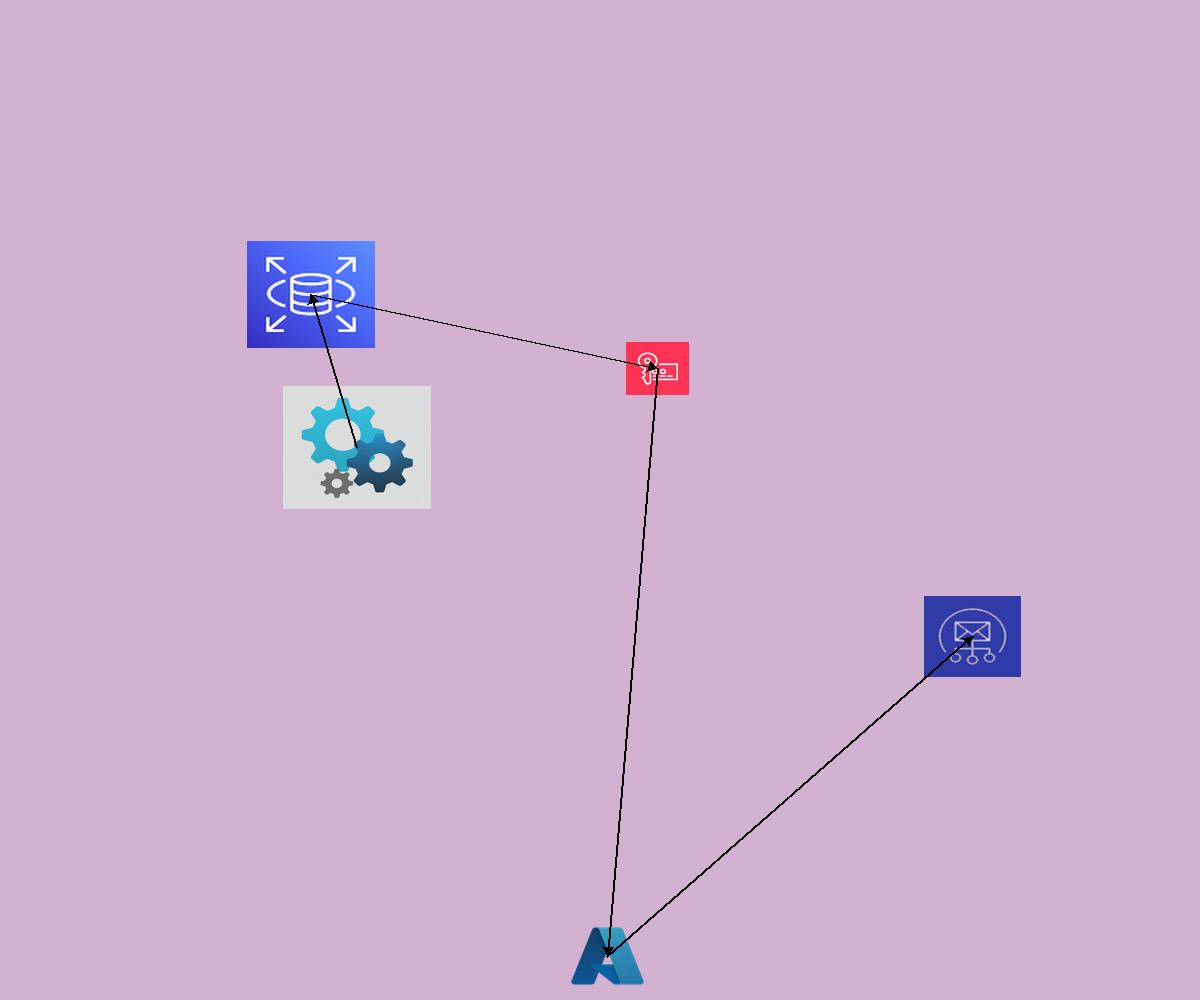AWS-Key-Management-Service: (626, 342, 689, 395)
AWS-RDS: (247, 241, 375, 348)
AWS-Simple-Email-Service: (924, 596, 1021, 677)
Azure_api: (283, 386, 431, 509)
Azure_services: (568, 923, 647, 989)
